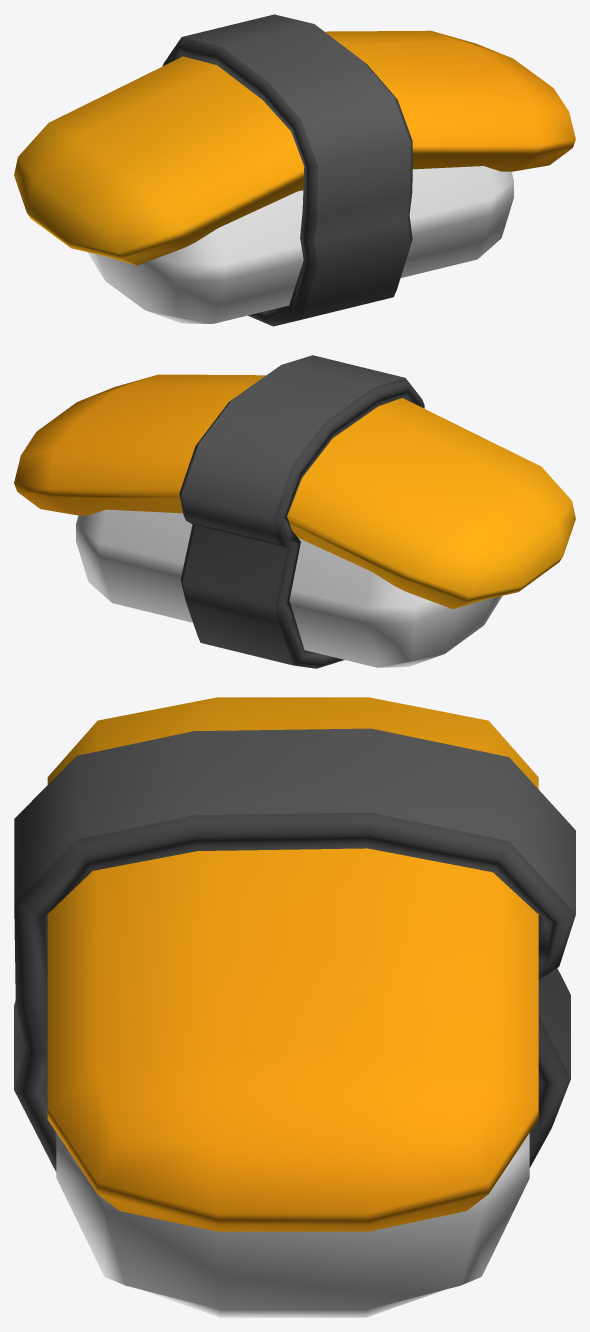
The model's file is Sushi_05.fbx.
3 renders of one model, top to bottom at view 1: azimuth 30°, elevation 25°; view 2: azimuth 150°, elevation 25°; view 3: azimuth 270°, elevation 25°, orthographic. The views are drawn at different scales.
Parts seen in each view (by area): view 1: Sushi_05; view 2: Sushi_05; view 3: Sushi_05.
Boxes of the visible parts, box(x1,y1,x2,y2) form: Sushi_05: box(14, 14, 575, 326); Sushi_05: box(14, 355, 575, 668); Sushi_05: box(14, 697, 575, 1317).
Bounding box in the file's own units: 19.25 × 9.27 × 10.14.
